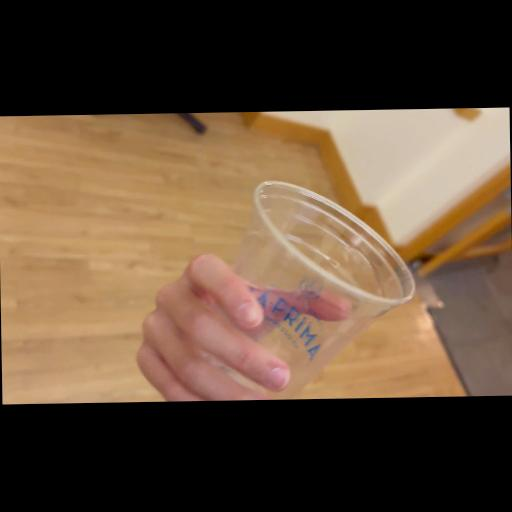lp_plastic_cup: (208, 179, 416, 399)
